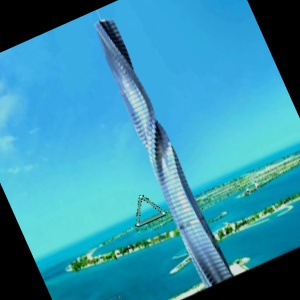triangle: (133, 191, 167, 230)
